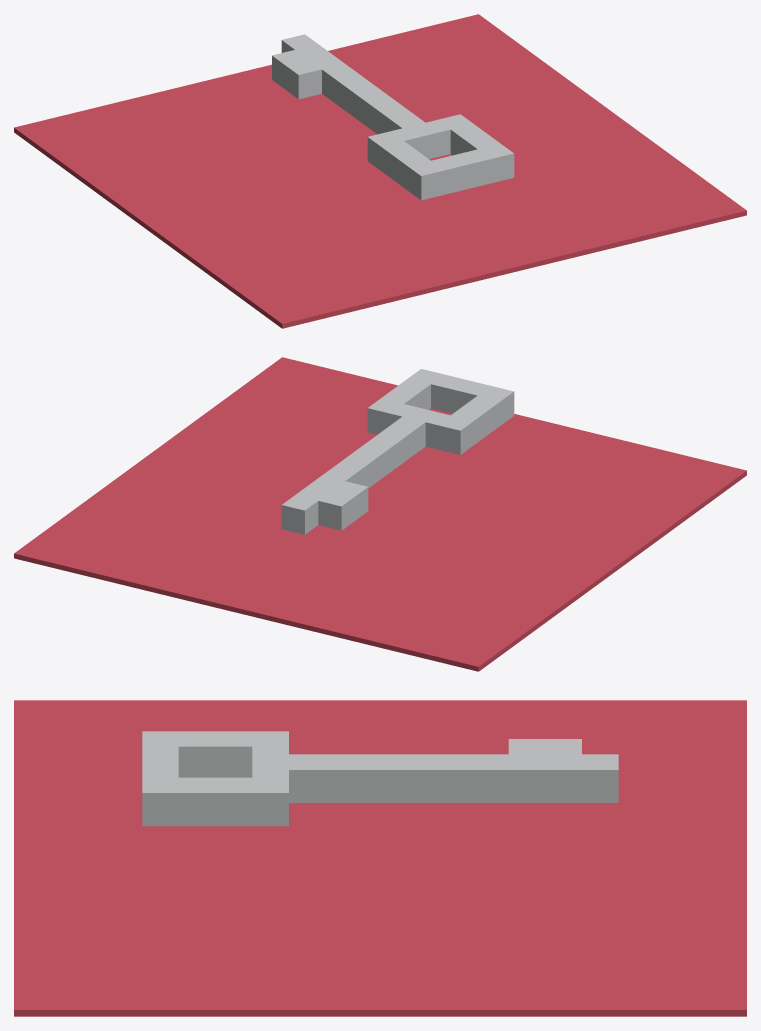
The model's file is Key_White.glb.
3 views of the same model, one above another, from view 1: azimuth 30°, elevation 25°; view 2: azimuth 150°, elevation 25°; view 3: azimuth 270°, elevation 25° (orthographic). The views are drawn at different scales.
Parts seen in each view (by area): view 1: Mesh_Mesh_head_geo.001_lambert2SG.001; view 2: Mesh_Mesh_head_geo.001_lambert2SG.001; view 3: Mesh_Mesh_head_geo.001_lambert2SG.001.
Boxes of the visible parts, <box> form: Mesh_Mesh_head_geo.001_lambert2SG.001: <box>14,14,746,328</box>; Mesh_Mesh_head_geo.001_lambert2SG.001: <box>14,357,746,671</box>; Mesh_Mesh_head_geo.001_lambert2SG.001: <box>14,700,746,1016</box>.
Bounding box in the file's own units: 1 × 0.15 × 1.
